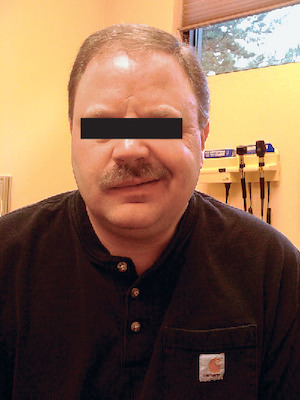stroke: (73, 79, 184, 230)
